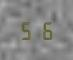five: (19, 20, 35, 40)
six: (36, 20, 52, 40)
